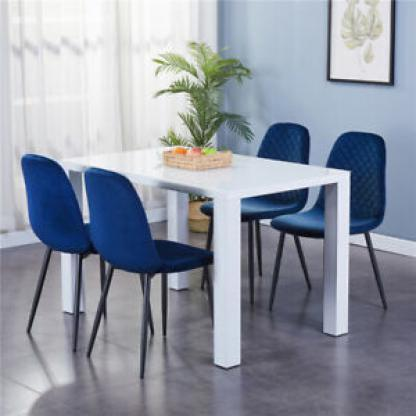chair: (79, 167, 216, 373), (275, 132, 405, 328), (201, 118, 310, 287), (20, 152, 97, 355)
table: (50, 142, 366, 385)
